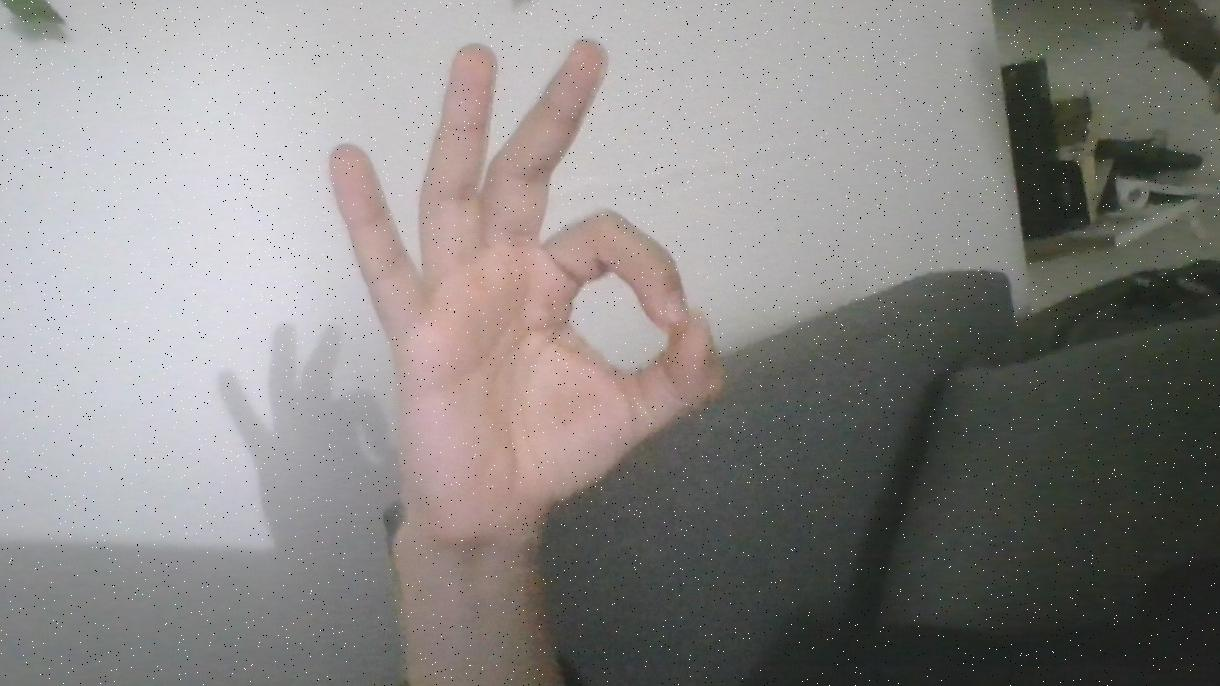zero: (312, 12, 741, 547)
